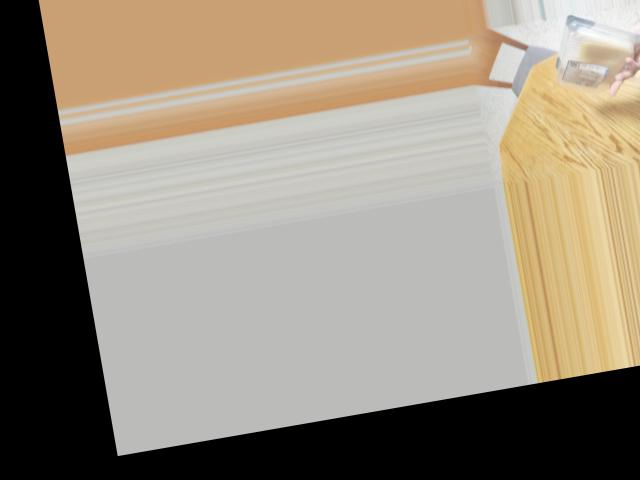cheese: (548, 17, 640, 89)
